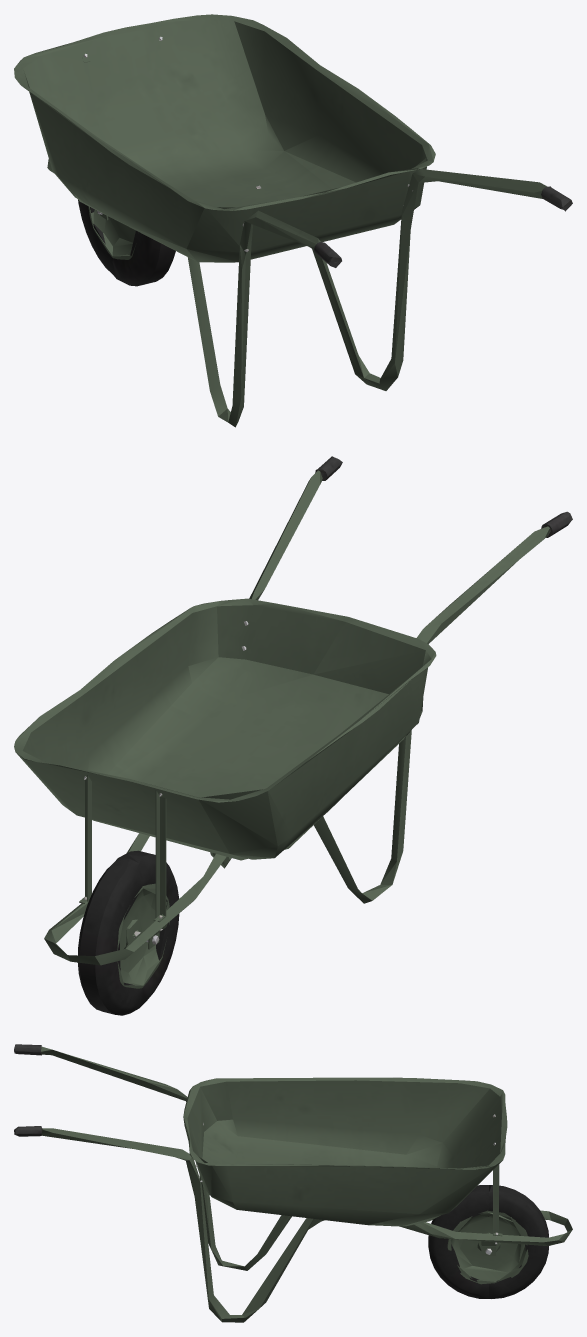
The model's file is forest_wheelbarrow.glb.
3 views of the same model, one above another, from view 1: azimuth 30°, elevation 25°; view 2: azimuth 150°, elevation 25°; view 3: azimuth 270°, elevation 25° (orthographic). The views are drawn at different scales.
Parts seen in each view (by area): view 1: forest_wheelbarrow; view 2: forest_wheelbarrow; view 3: forest_wheelbarrow.
Part boxes in pixels (box(x1,y1,x2,y2)): forest_wheelbarrow: box(14, 14, 572, 427); forest_wheelbarrow: box(14, 456, 572, 1015); forest_wheelbarrow: box(14, 1044, 572, 1322).
Bounding box in the file's own units: 0.6473 × 0.7179 × 1.71.
4 materials, 4 textured.
